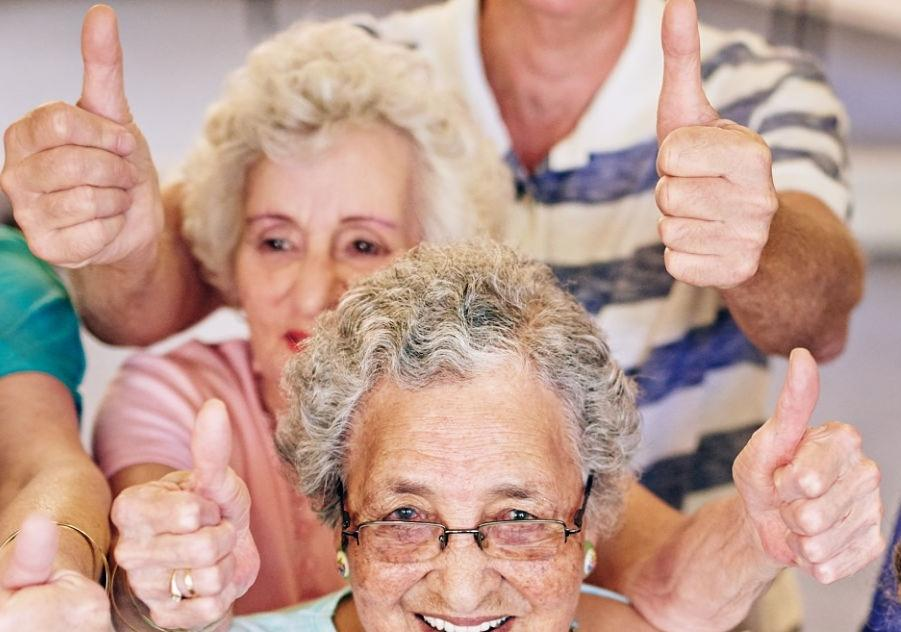thumbsup: (0, 3, 143, 265), (653, 1, 781, 291), (113, 398, 244, 632), (757, 346, 885, 585)
